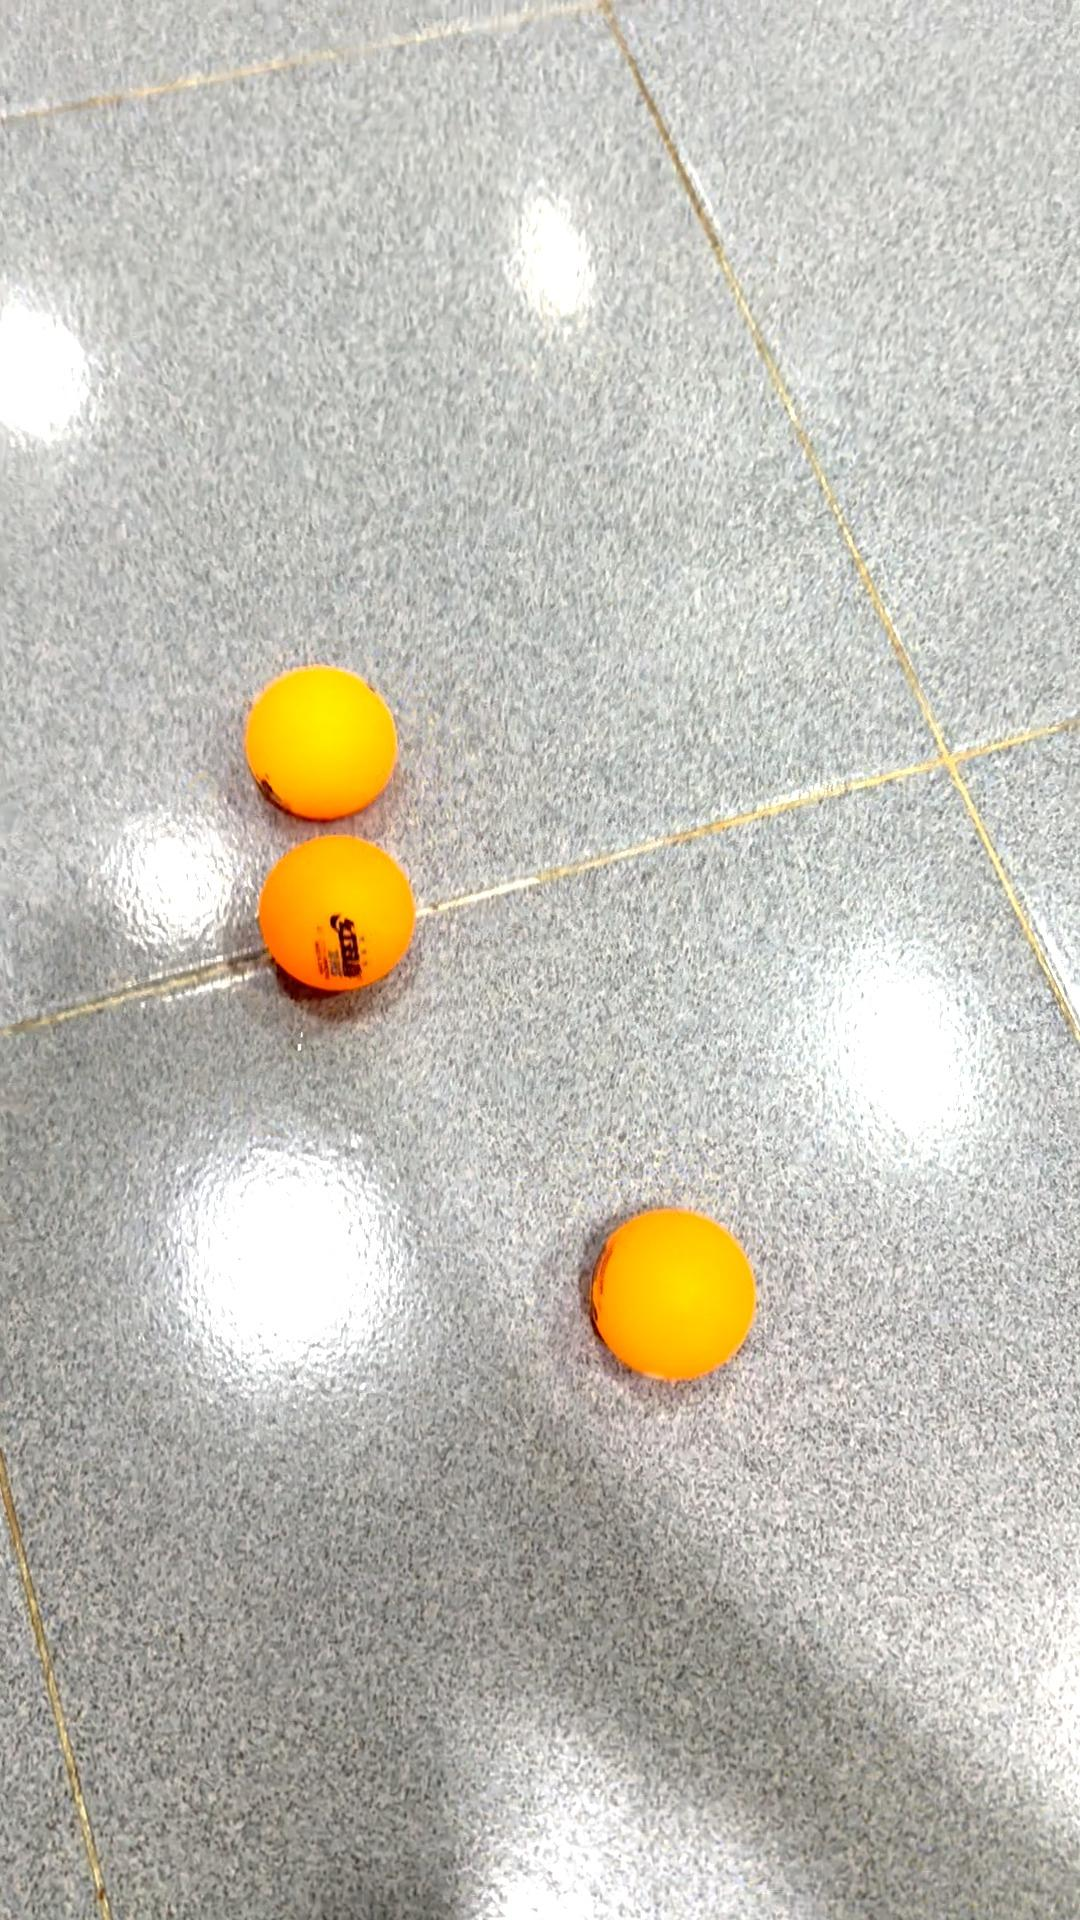oball: (588, 1197, 764, 1402), (241, 828, 422, 997), (235, 665, 406, 815)
